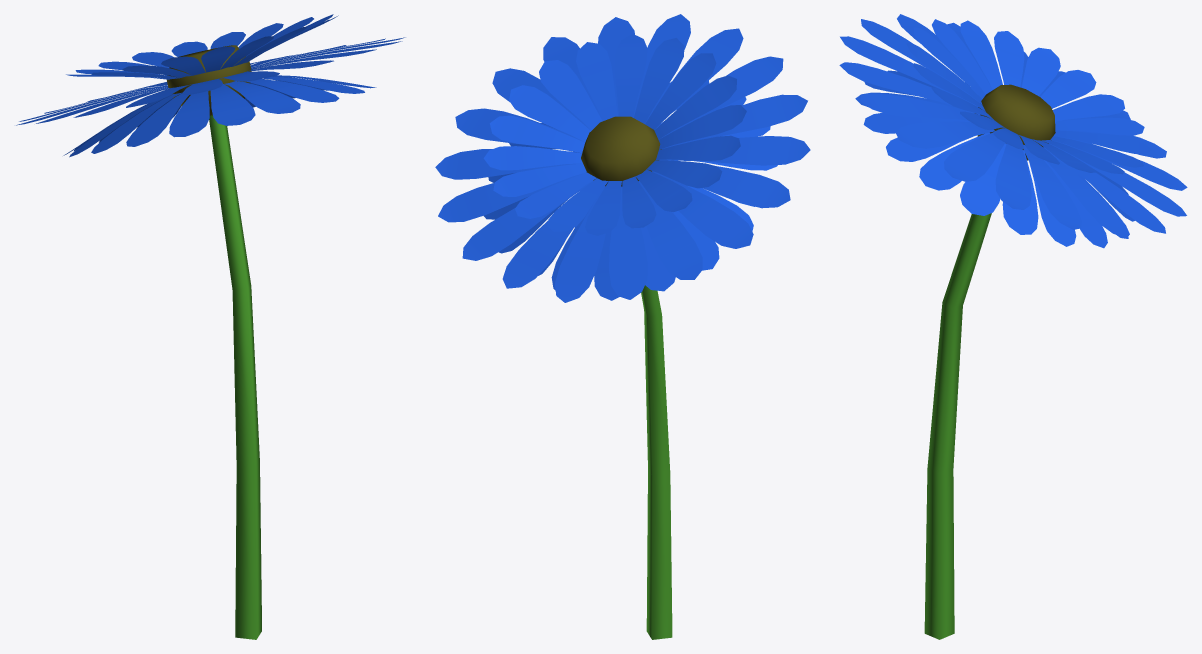
The model's file is BlueFlower.fbx.
The picture shows the model from 3 angles, left to right: view 1: azimuth 30°, elevation 25°; view 2: azimuth 150°, elevation 25°; view 3: azimuth 270°, elevation 25°; orthographic projection. The views are drawn at different scales.
Parts seen in each view (by area): view 1: BlueFlower; view 2: BlueFlower; view 3: BlueFlower.
Boxes of the visible parts, bbox=[...] form: BlueFlower: bbox=[16, 14, 405, 639]; BlueFlower: bbox=[435, 14, 810, 639]; BlueFlower: bbox=[839, 14, 1187, 639].
Size of the model in its own units: 15.28 by 25.41 by 13.6.
